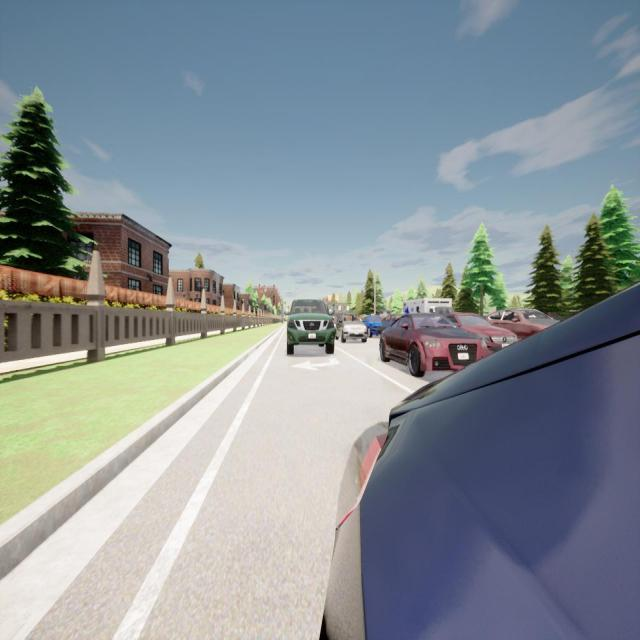Vehicle: (324, 284, 640, 638), (378, 314, 479, 378), (284, 297, 336, 355), (489, 308, 560, 340), (445, 313, 518, 343), (336, 312, 366, 343), (402, 298, 454, 314), (364, 316, 383, 338), (382, 314, 402, 326)
